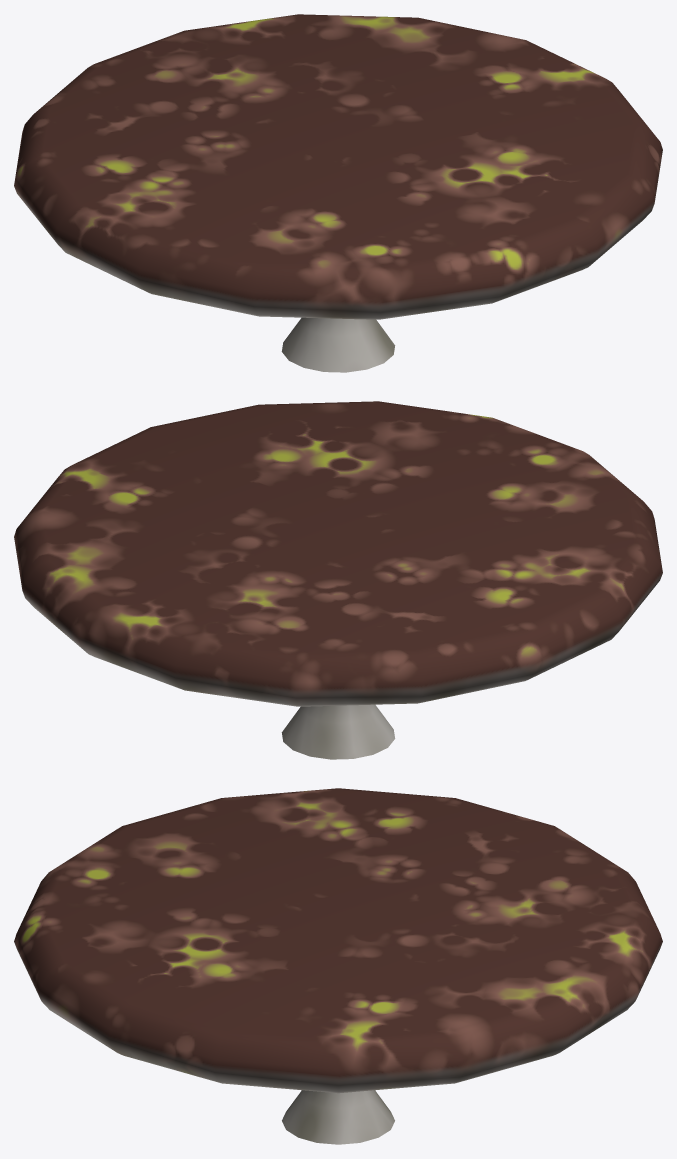
Rendered from Small Mushroom.fbx.
3 renders of one model, top to bottom at view 1: azimuth 30°, elevation 25°; view 2: azimuth 150°, elevation 25°; view 3: azimuth 270°, elevation 25°, orthographic.
Visible parts, largest first — view 1: Small Mushroom; view 2: Small Mushroom; view 3: Small Mushroom.
Boxes of the visible parts, x1,y1,x2,y2 form: Small Mushroom: (14, 14, 662, 372); Small Mushroom: (14, 401, 662, 759); Small Mushroom: (14, 788, 662, 1144).
Bounding box in the file's own units: 5.99 × 5.99 × 2.09.
Materials: 1 (1 with a texture image).
